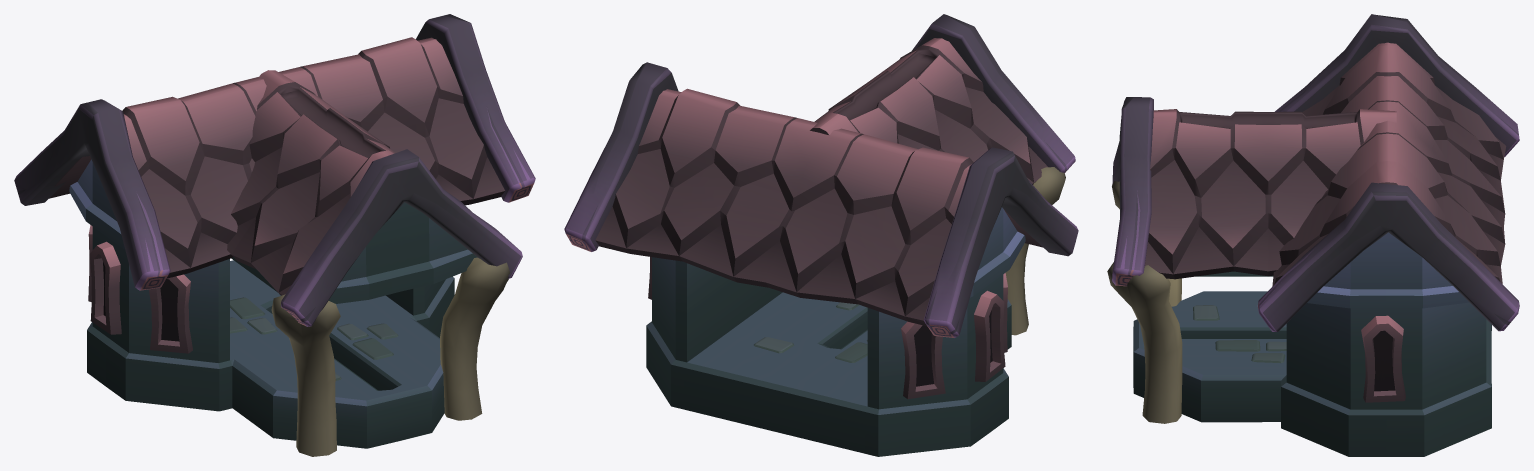
File: undead_woodcutter_building_big.fbx
The picture shows the model from 3 angles, left to right: view 1: azimuth 30°, elevation 25°; view 2: azimuth 150°, elevation 25°; view 3: azimuth 270°, elevation 25°; orthographic projection.
Parts seen in each view (by area): view 1: undead_woodcutter_building_big; view 2: undead_woodcutter_building_big; view 3: undead_woodcutter_building_big.
Part boxes in pixels (box(x1,y1,x2,y2)): undead_woodcutter_building_big: box(14, 14, 535, 456); undead_woodcutter_building_big: box(564, 14, 1078, 456); undead_woodcutter_building_big: box(1107, 14, 1519, 456).
Size of the model in its own units: 9.6 by 6.6 by 8.85.
